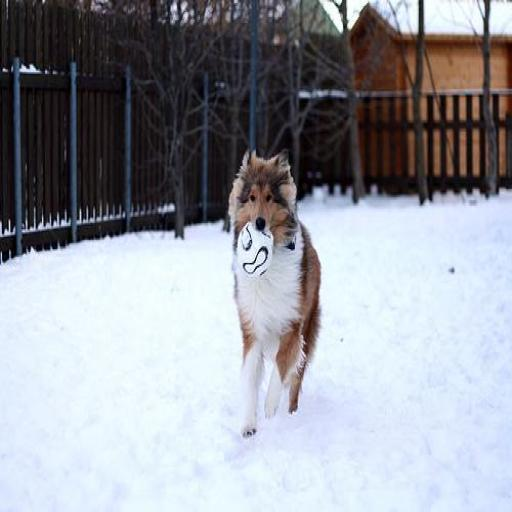dog_face: (236, 142, 300, 235)
